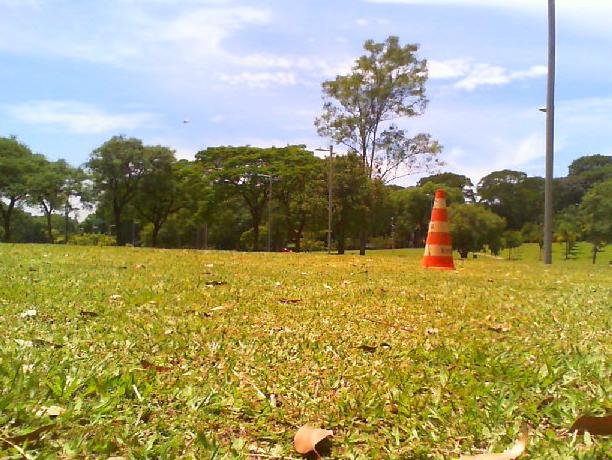0 cone: (420, 190, 456, 269)
